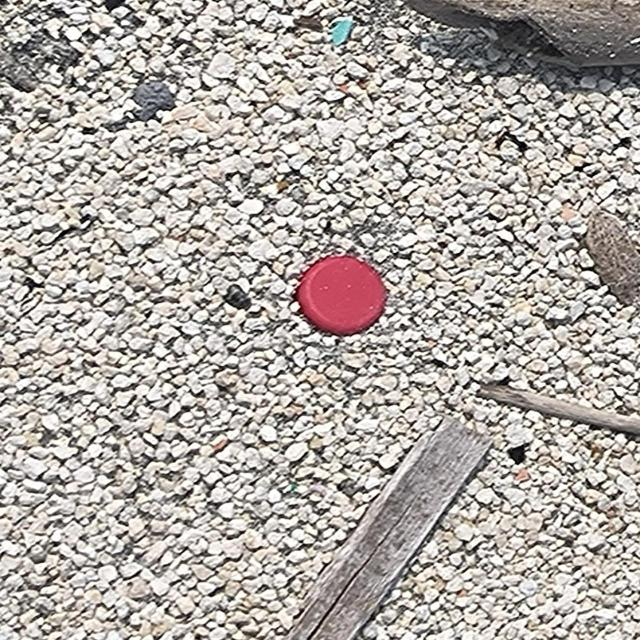plastic_waste: (297, 254, 389, 338)
